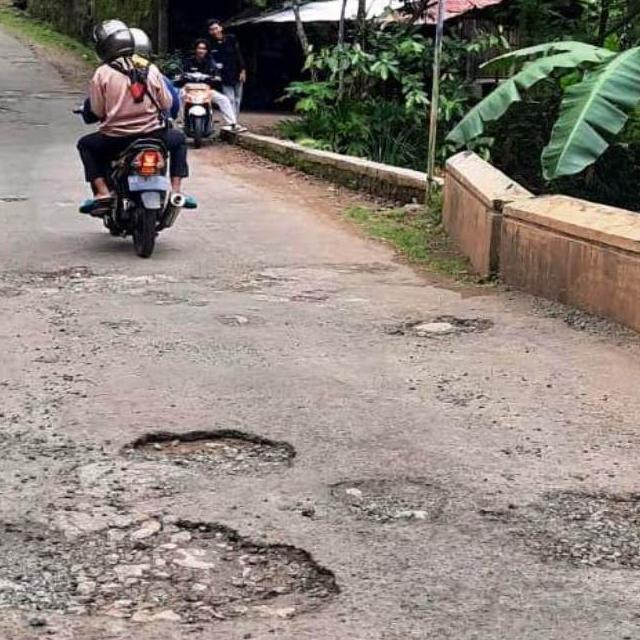lubang_kecil: (0, 492, 350, 640), (477, 449, 640, 595), (104, 410, 313, 505), (305, 452, 462, 542), (391, 300, 486, 363), (0, 260, 105, 315), (14, 79, 81, 110), (0, 179, 32, 221), (0, 92, 27, 126)
